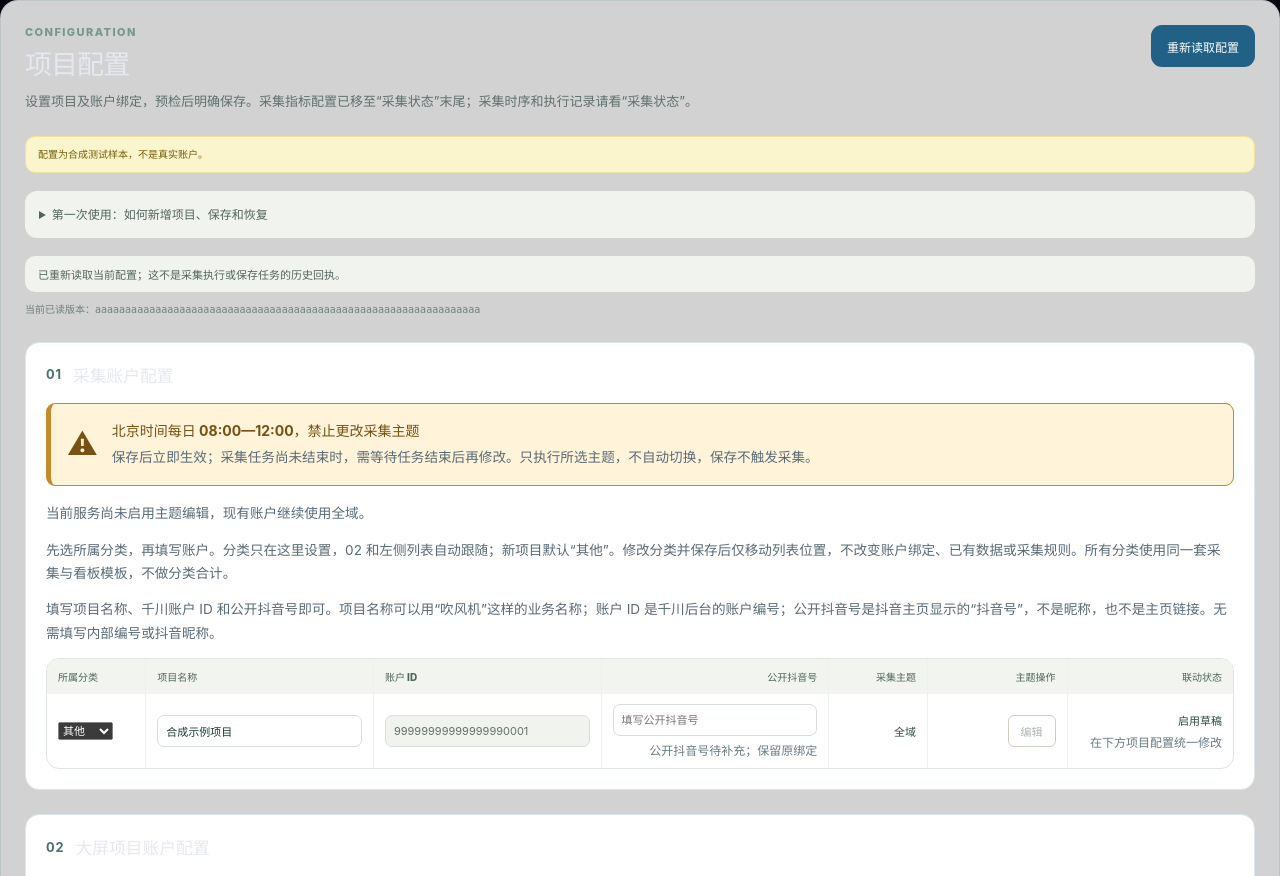
it: minimal configuration panel › edits category only in account configuration and verifies the saved shared value
Select "小家电" in the dropdown named "项目 1 所属分类" at (86,731), box [58, 722, 113, 740]
(page scrolled)
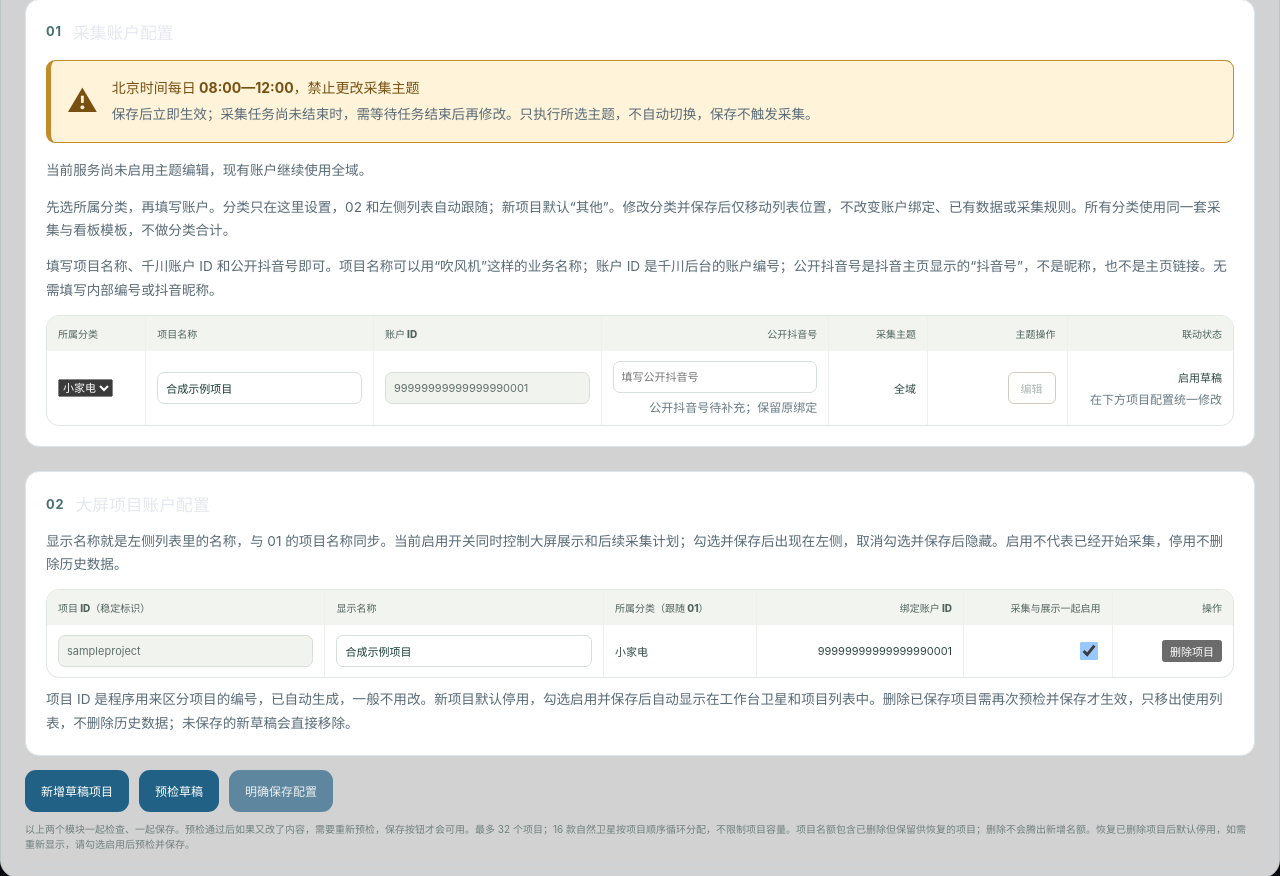
Expected: the cell with class "configuration-category-label" reads "小家电", [615, 645, 648, 659]
Click the button with class "configuration-check".
click(179, 791)  # box [139, 770, 219, 812]
(page scrolled)
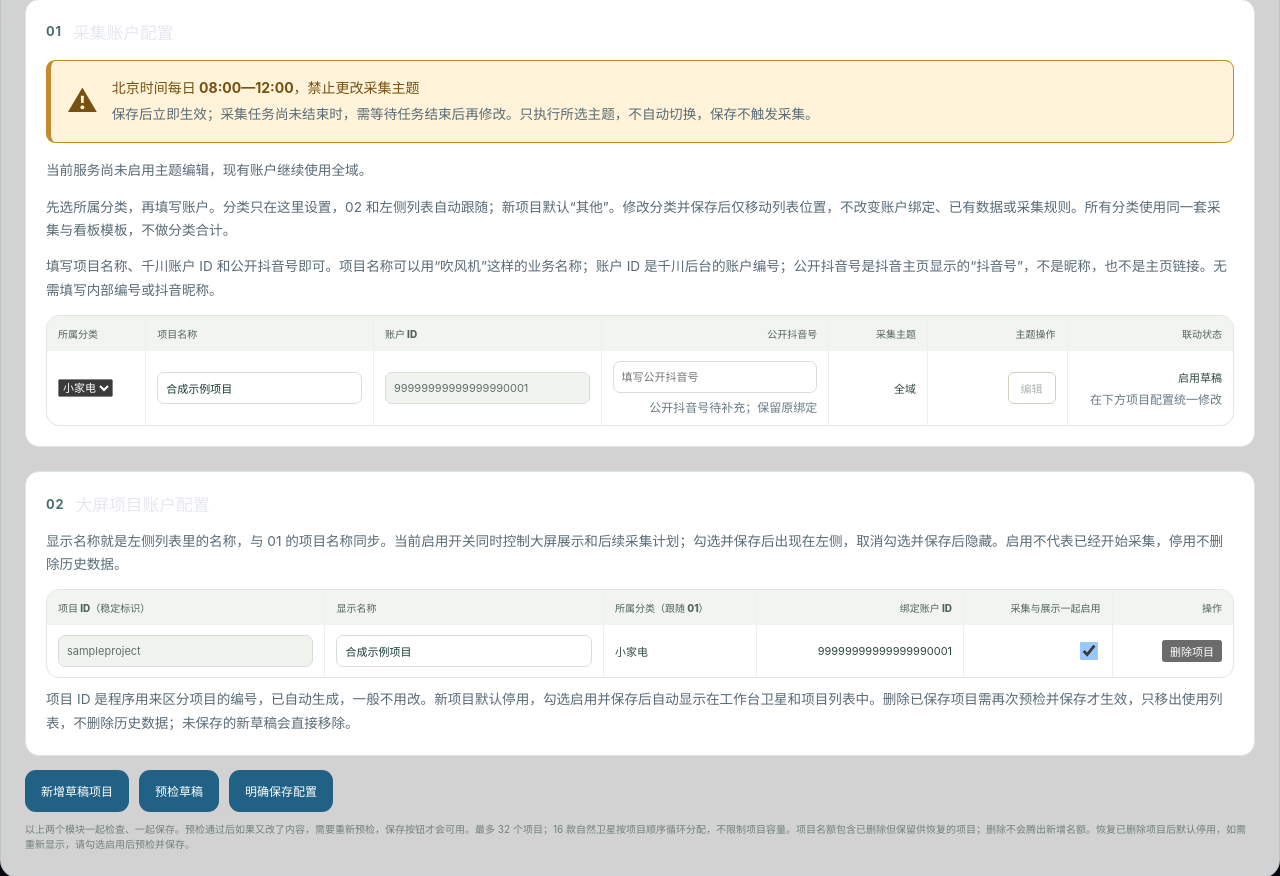
Click the button with class "configuration-save".
click(281, 791)  # box [229, 770, 333, 812]
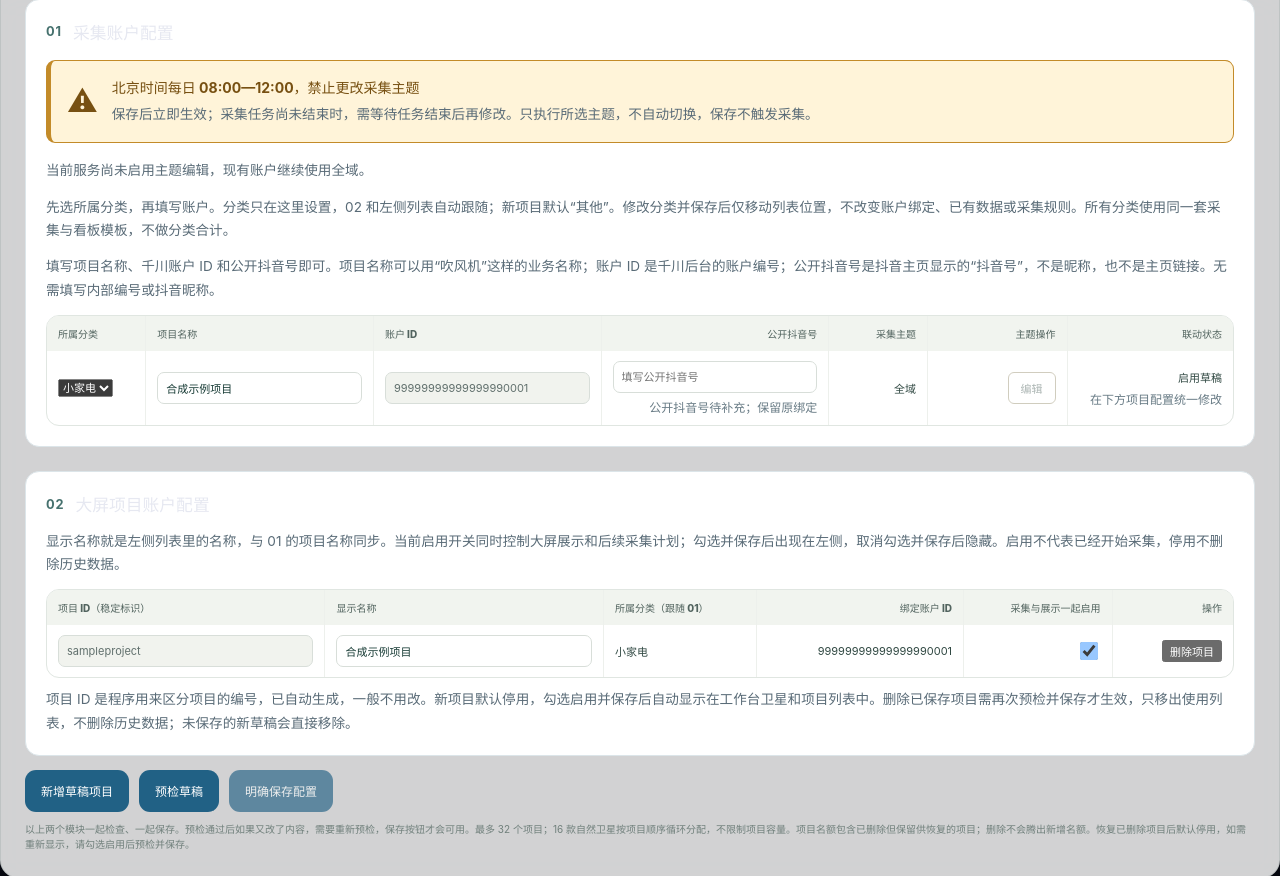
Click the button with class "configuration-add".
click(77, 791)  # box [25, 770, 129, 812]
(page scrolled)
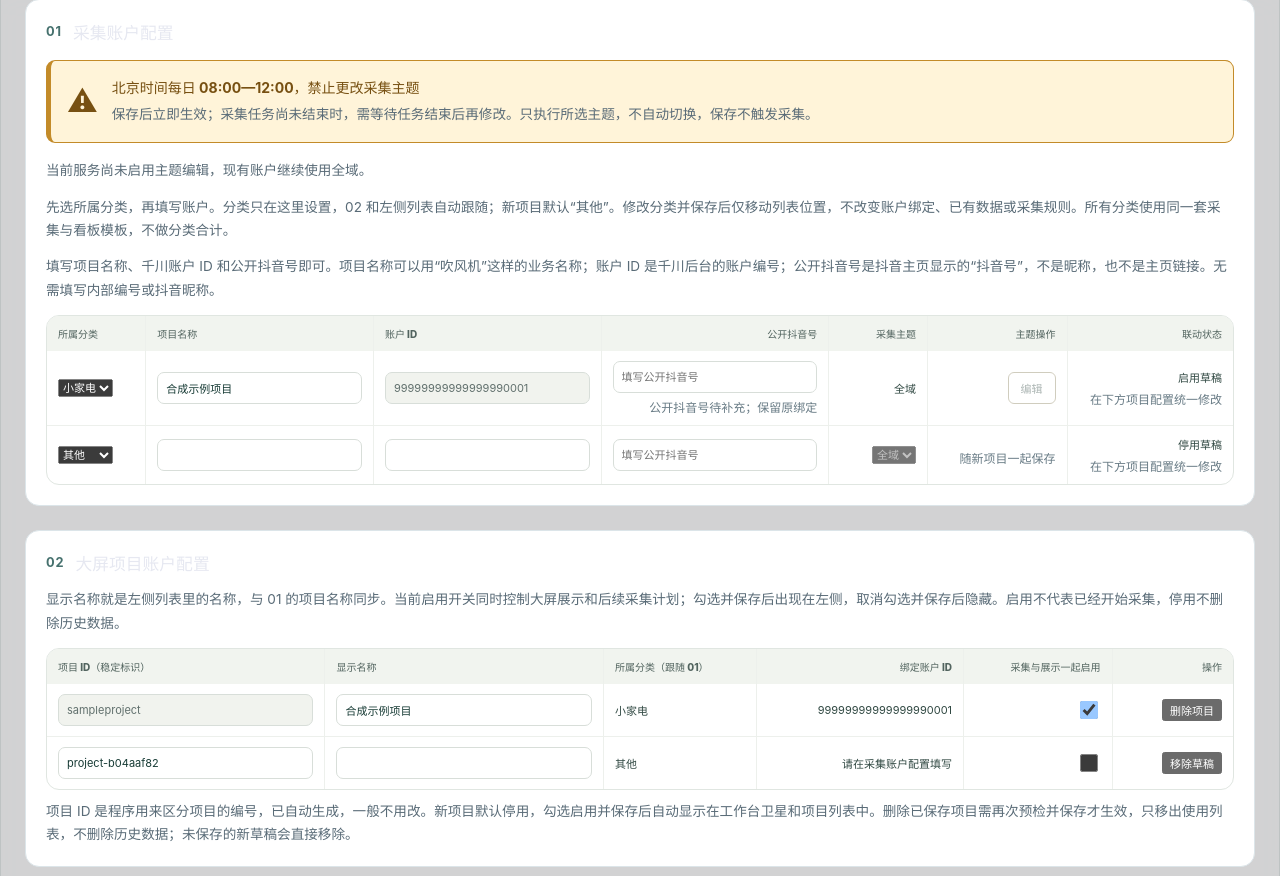
Expected: the dropdown named "项目 2 所属分类" shows "其他", [58, 446, 113, 464]
